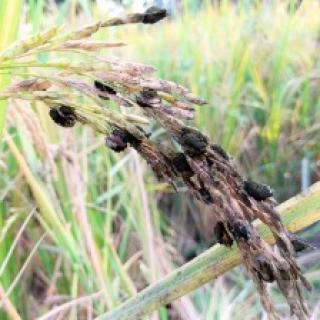Gosong-Palsu: (204, 217, 252, 256), (103, 123, 146, 159), (177, 123, 209, 162), (242, 173, 280, 204), (47, 102, 78, 136), (92, 78, 116, 104), (144, 6, 166, 23)
